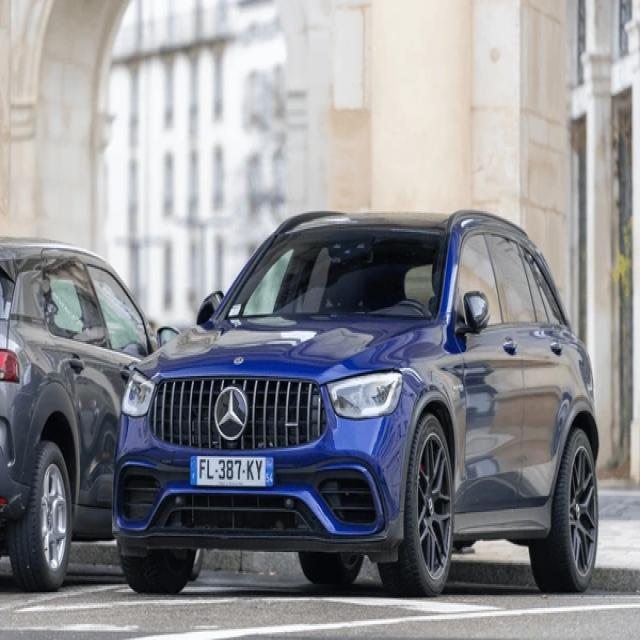mercedes: (214, 387, 250, 441)
